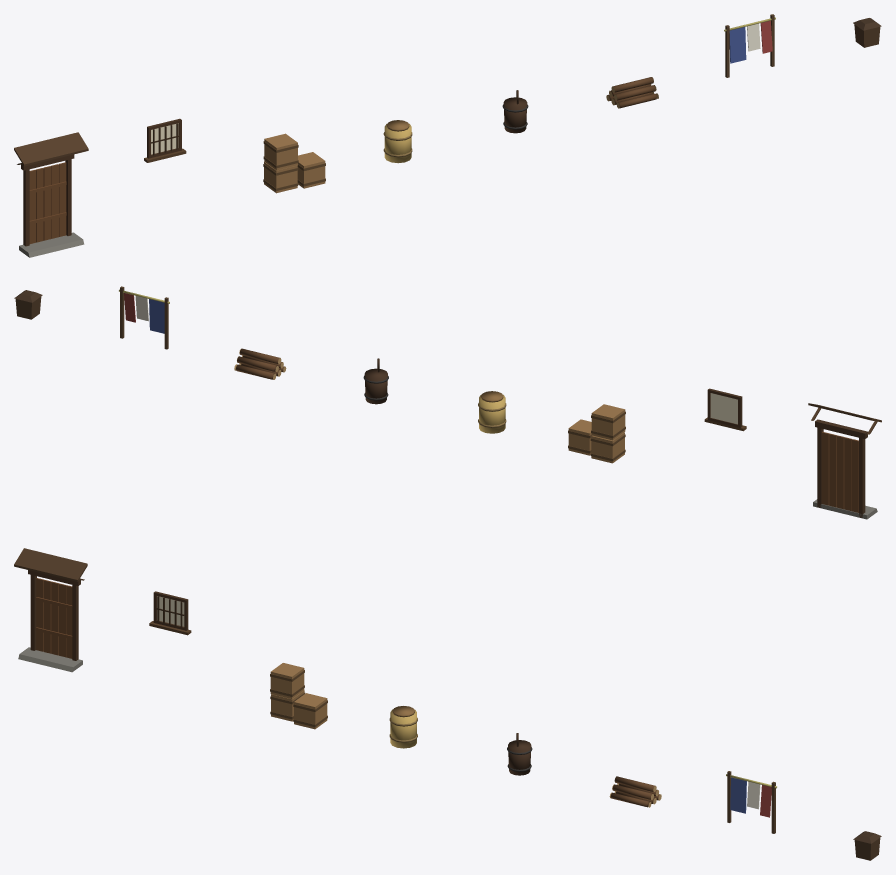
File: japan_kit19_shop_backs.fbx
3 views of the same model, one above another, from view 1: azimuth 30°, elevation 25°; view 2: azimuth 150°, elevation 25°; view 3: azimuth 330°, elevation 25° (orthographic).
Parts seen in each view (by area): view 1: Door_Wood, Crate_Wood, Door_Hood, Door_Frame, Wood_Log, Door_Step, Barrel_Straw, Butt_Wood, Crate_Band, Cloth_A, Win_Paper, Win_Frame; view 2: Door_Wood, Crate_Wood, Door_Frame, Wood_Log, Barrel_Straw, Butt_Wood, Win_Paper, Crate_Band, Pole_Post, Win_Frame, Cloth_A; view 3: Door_Wood, Crate_Wood, Door_Hood, Door_Frame, Wood_Log, Door_Step, Barrel_Straw, Butt_Wood, Crate_Band.
Boxes of the visible parts, x1,y1,x2,y2 form: Door_Wood: [29, 162, 66, 243]; Crate_Wood: [264, 133, 325, 193]; Door_Hood: [14, 132, 88, 166]; Door_Frame: [21, 154, 74, 246]; Wood_Log: [608, 77, 656, 108]; Door_Step: [19, 232, 84, 257]; Barrel_Straw: [384, 123, 411, 163]; Butt_Wood: [503, 90, 527, 133]; Crate_Band: [263, 141, 325, 190]; Cloth_A: [729, 27, 746, 63]; Win_Paper: [151, 123, 178, 154]; Win_Frame: [147, 118, 181, 158]; Door_Wood: [821, 431, 858, 512]; Crate_Wood: [568, 404, 625, 463]; Door_Frame: [815, 419, 867, 518]; Wood_Log: [236, 348, 284, 379]; Barrel_Straw: [479, 394, 505, 433]; Butt_Wood: [364, 358, 387, 404]; Win_Paper: [710, 393, 737, 424]; Crate_Band: [568, 411, 625, 461]; Pole_Post: [120, 286, 168, 349]; Win_Frame: [707, 388, 742, 427]; Cloth_A: [149, 299, 164, 333]; Door_Wood: [35, 578, 72, 658]; Crate_Wood: [270, 663, 327, 729]; Door_Hood: [14, 548, 87, 581]; Door_Frame: [28, 570, 80, 660]; Wood_Log: [610, 776, 659, 807]; Door_Step: [18, 647, 82, 672]; Barrel_Straw: [390, 709, 416, 748]; Butt_Wood: [508, 733, 531, 775]; Crate_Band: [270, 670, 327, 727].
Bounding box in the file's own units: 88.25 × 10.13 × 3.17.
